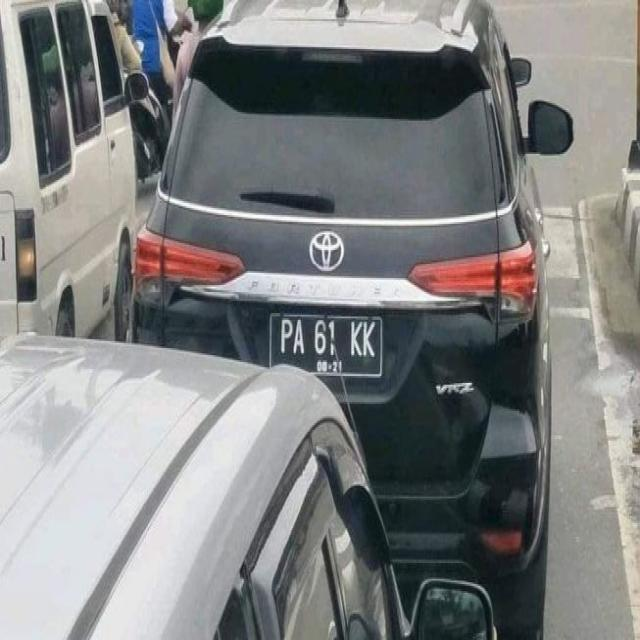lisence-plate: (264, 294, 394, 398)
